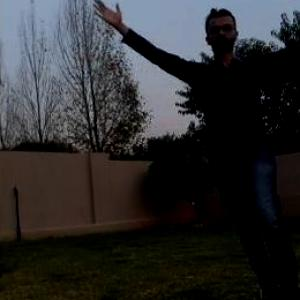takeoff: (106, 7, 299, 299)
